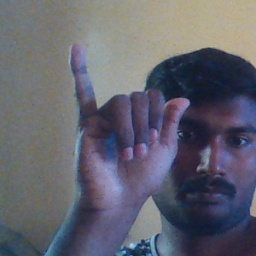J: (59, 43, 190, 208)
